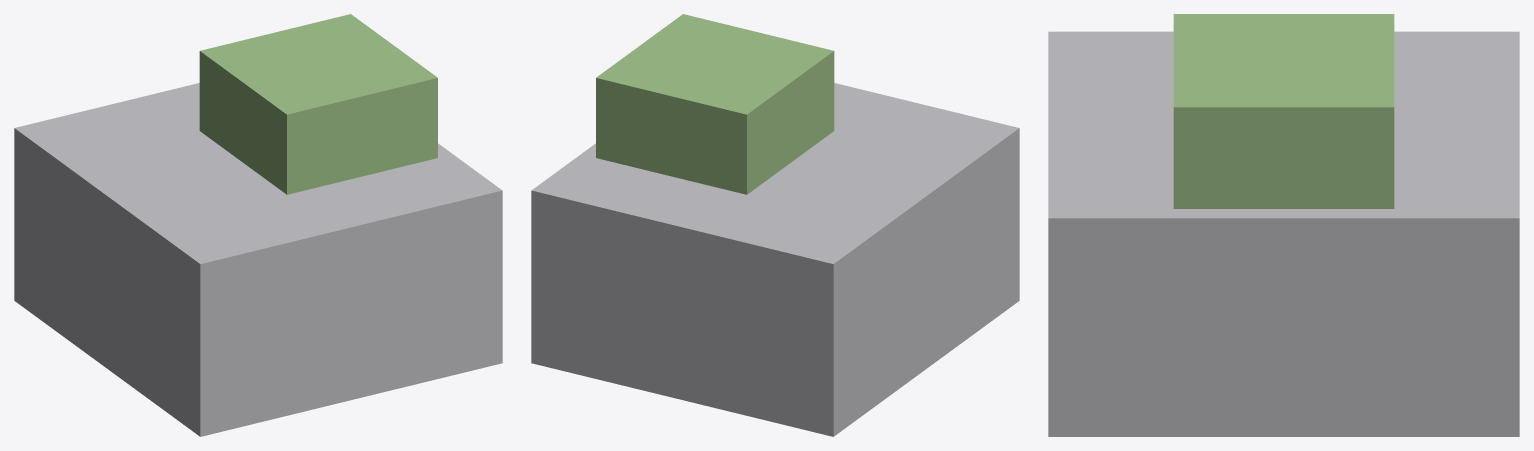
File: Prop_Dress_AMF_Rock_V26.glb
3 renders of one model, left to right at view 1: azimuth 30°, elevation 25°; view 2: azimuth 150°, elevation 25°; view 3: azimuth 270°, elevation 25°, orthographic. The views are drawn at different scales.
Visible parts, largest first — view 1: Prop_Dress_AMF_Rock_V26; view 2: Prop_Dress_AMF_Rock_V26; view 3: Prop_Dress_AMF_Rock_V26.
Part boxes in pixels (<box>): Prop_Dress_AMF_Rock_V26: <box>14,14,502,436</box>; Prop_Dress_AMF_Rock_V26: <box>531,14,1019,436</box>; Prop_Dress_AMF_Rock_V26: <box>1048,14,1519,436</box>.
Size of the model in its own units: 1.54 by 1.23 by 1.64.
